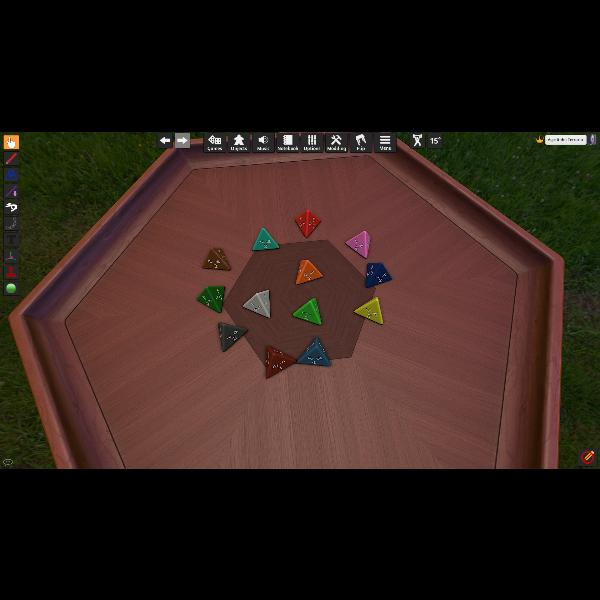d4: (264, 346, 296, 378), (297, 338, 331, 366), (218, 322, 246, 352), (355, 296, 383, 324), (242, 290, 270, 318), (292, 298, 322, 324), (197, 286, 225, 312), (346, 230, 371, 258), (296, 259, 322, 285), (203, 246, 231, 270), (295, 209, 319, 237), (251, 228, 278, 250), (366, 262, 390, 286)
